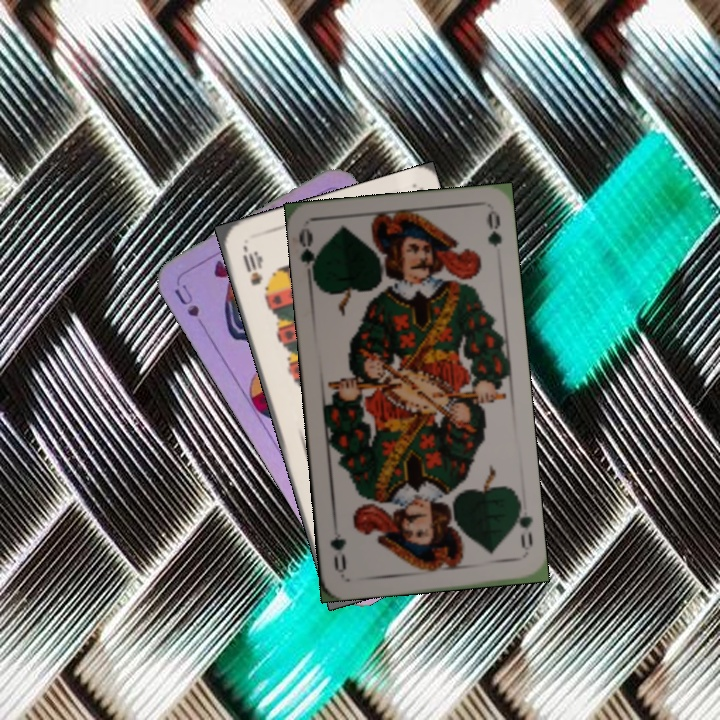GO: (294, 226, 323, 286), (508, 498, 535, 557)
S10: (238, 243, 265, 288)
SU: (170, 279, 209, 335)
